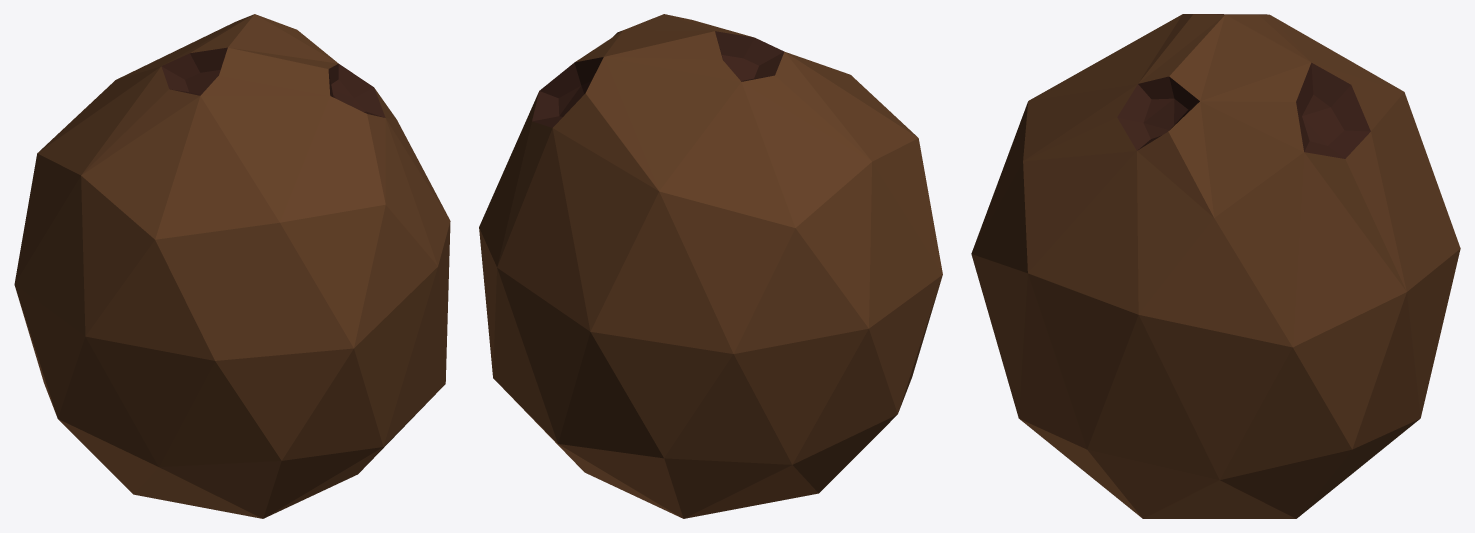
The model's file is Coconut1.fbx.
3 renders of one model, left to right at view 1: azimuth 30°, elevation 25°; view 2: azimuth 150°, elevation 25°; view 3: azimuth 270°, elevation 25°, orthographic. The views are drawn at different scales.
Parts seen in each view (by area): view 1: Icosphere; view 2: Icosphere; view 3: Icosphere.
Part boxes in pixels (x1,y1,x2,y2): Icosphere: [14, 14, 450, 518]; Icosphere: [479, 14, 942, 518]; Icosphere: [971, 14, 1460, 518].
Bounding box in the file's own units: 21.74 × 22.68 × 25.44.
